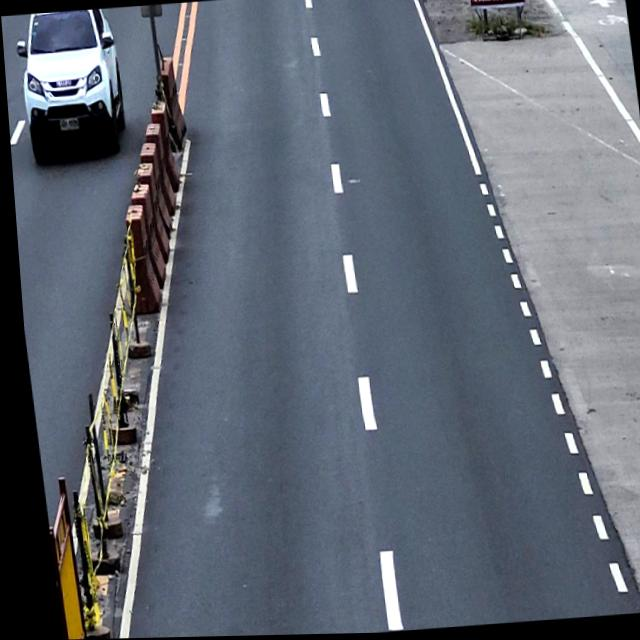Car: (12, 8, 129, 164)
License-Plate: (56, 116, 79, 133)
